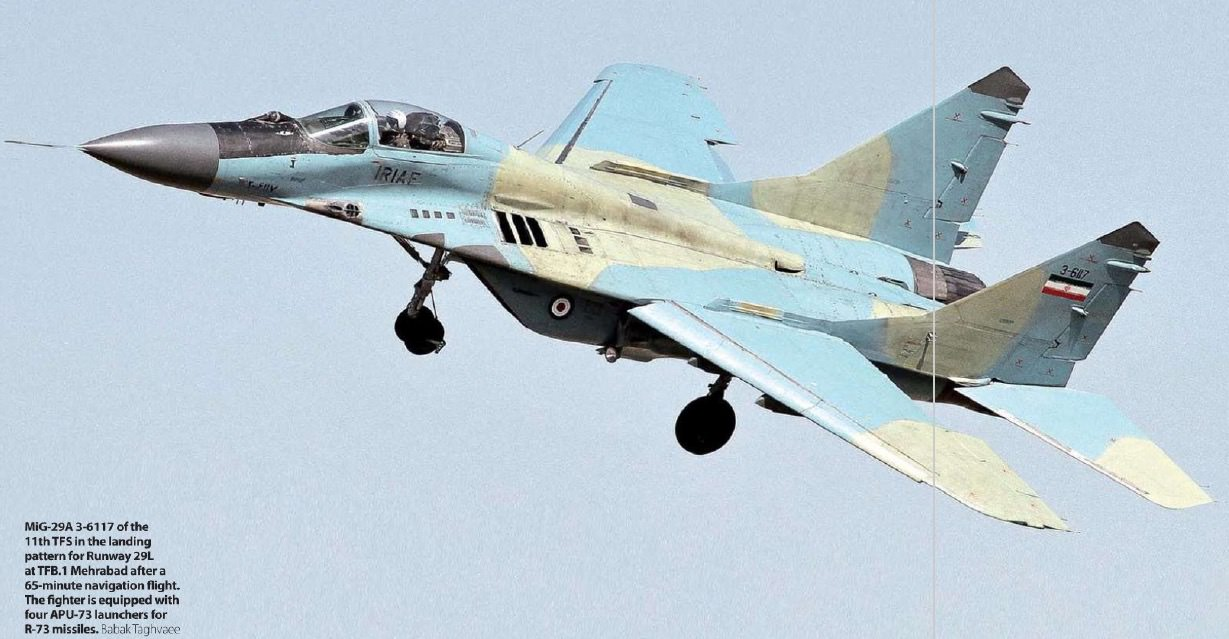Iran: (1041, 269, 1097, 307)
Mig-29: (99, 21, 1181, 522)
